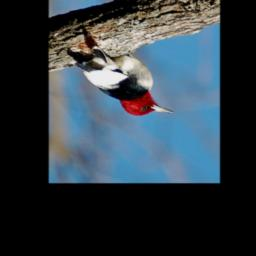Woodpecker: (74, 45, 177, 117)
